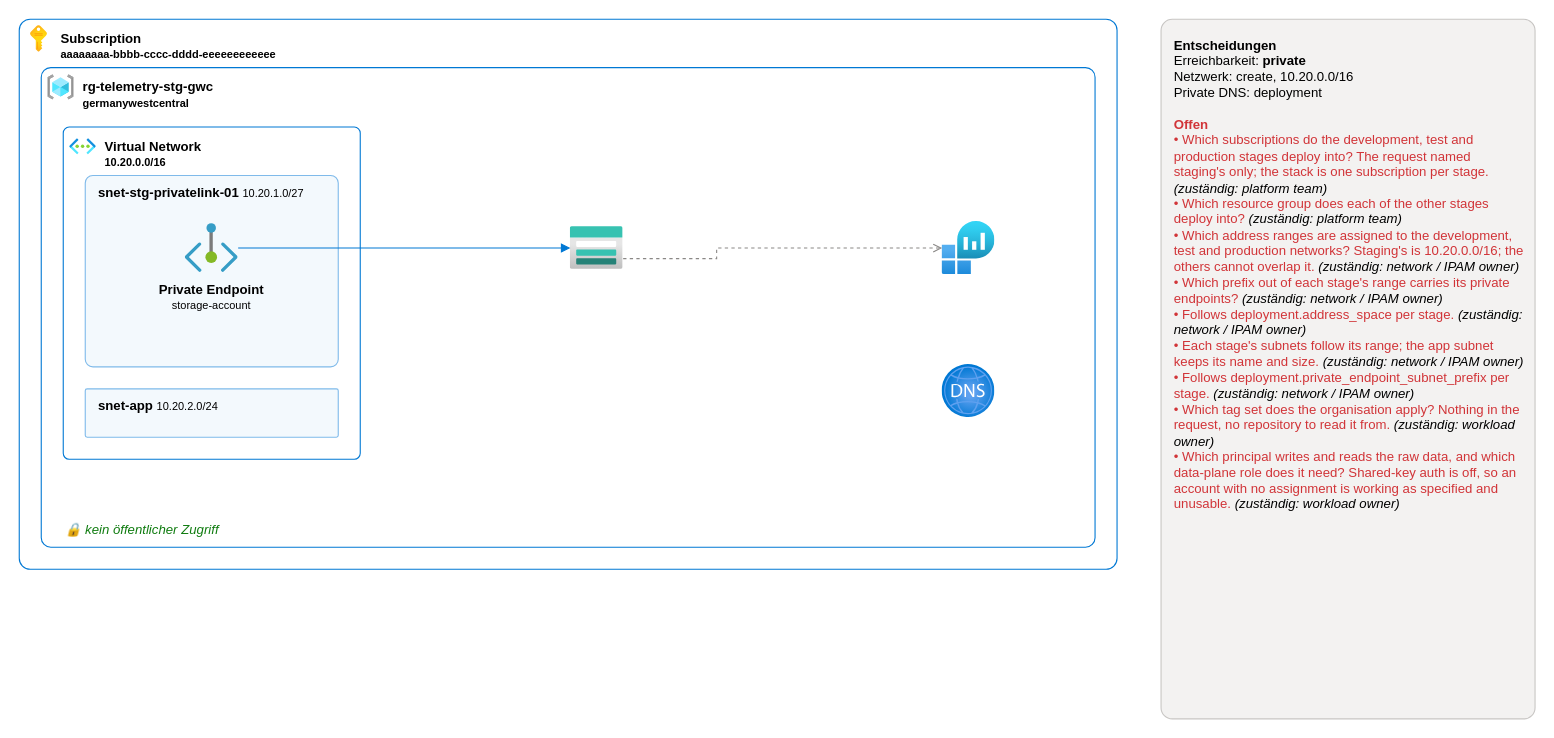
Image size: 1554x738. Some labels were removed from this diagram. The shapes that lost their labels are listed below. From the top down, each one's centre as x and y in pixels, then its label:
pixel 596 247: Storage Account storage-account
pixel 968 247: Log Analytics log-analytics-workspace
pixel 968 390: privatelink.blob.core.windows.net
